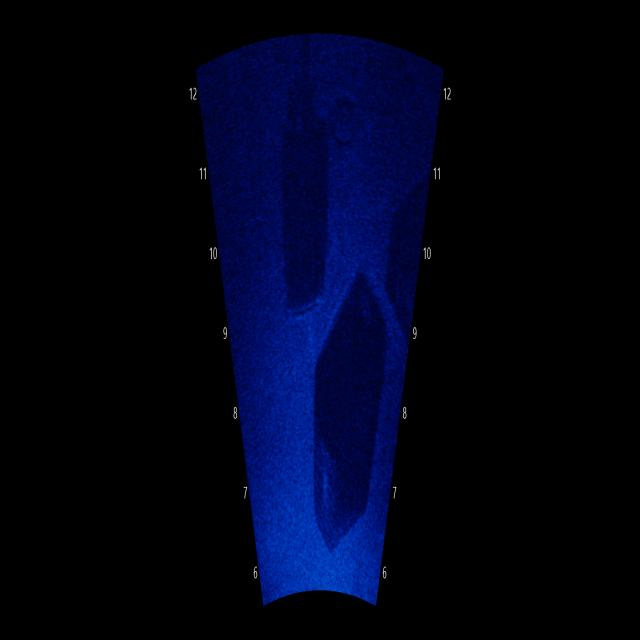square: (303, 256, 388, 576), (261, 78, 332, 313)
